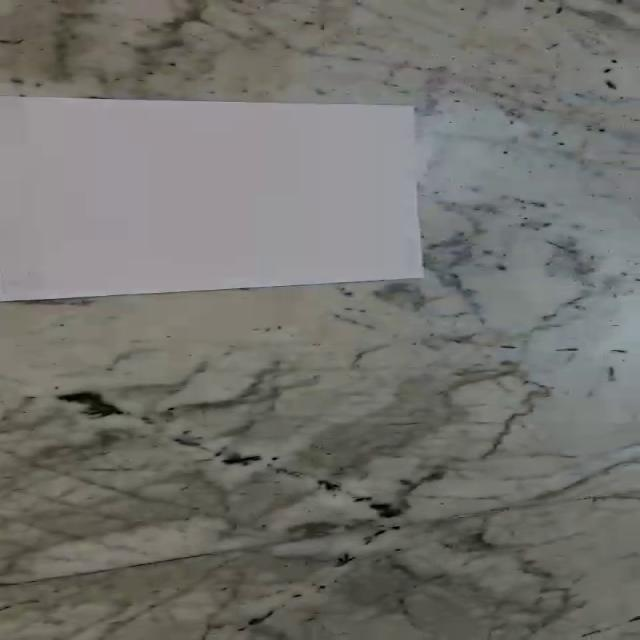road: (0, 96, 424, 303)
